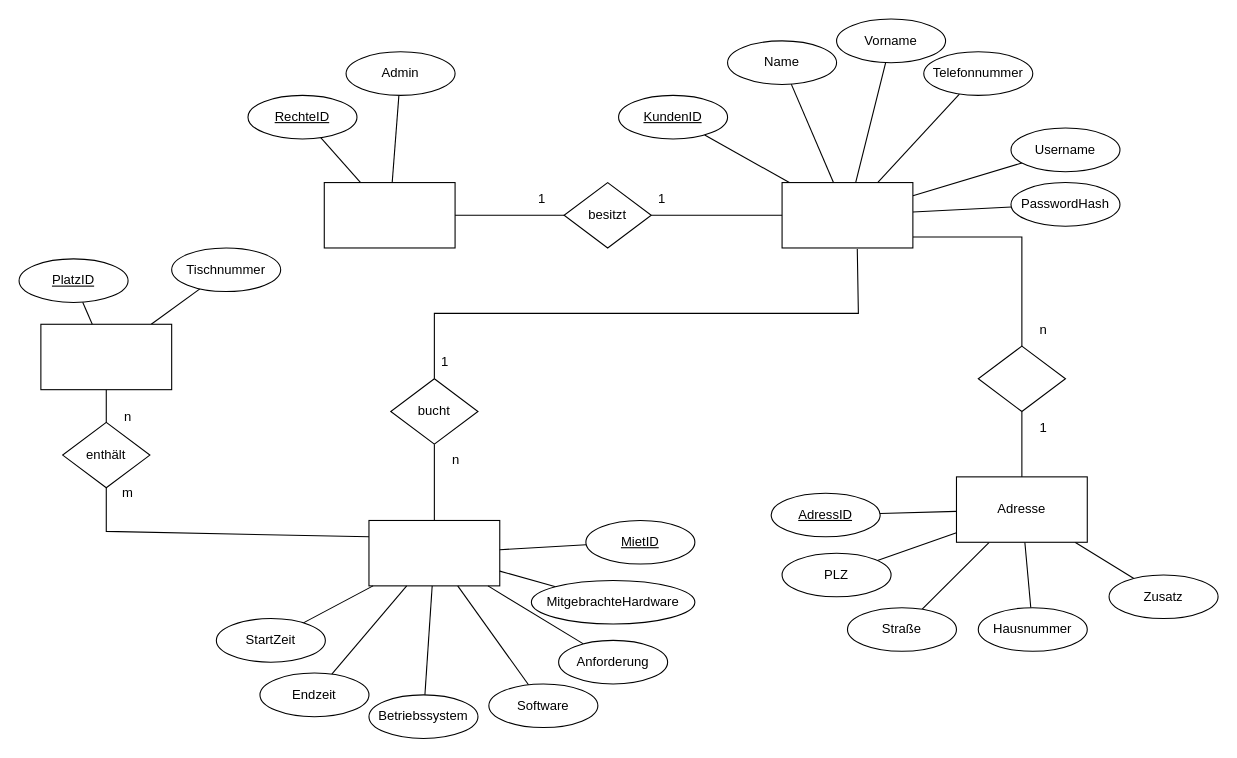
This 1237x758 diagram has some shape labels left out. Here are the shapes that lost their labels. From the top down, the centre of each, then its label:
(x=389, y=214): Berechtigung
(x=847, y=214): Kunde
(x=106, y=356): Arbeitsplatz
(x=1021, y=378): wohnt
(x=434, y=552): Mietung
